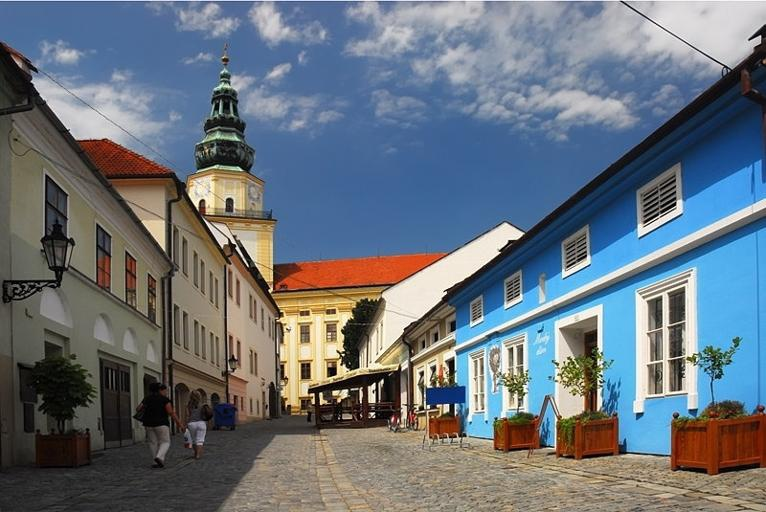non-vehicle: (401, 402, 420, 430), (386, 404, 402, 432)
